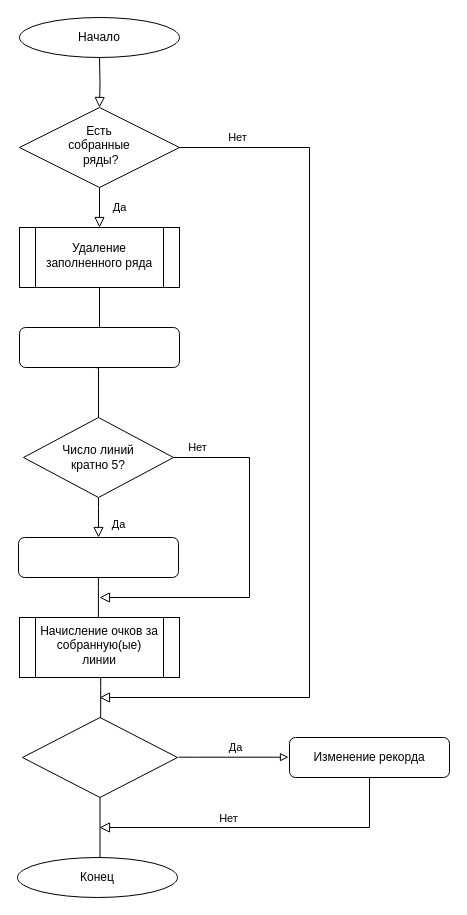
This 467x915 diagram has some shape labels left out. The centre of each missing label's shape, as x and y in pixels:
"Увеличение счетчика линий" goes at point (99, 347).
"Увеличение уровня" goes at point (98, 557).
"Число очков >= рекорда?" goes at point (100, 757).
